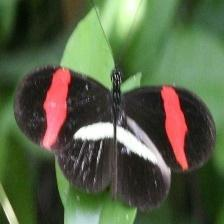butterfly: (13, 65, 217, 213)
